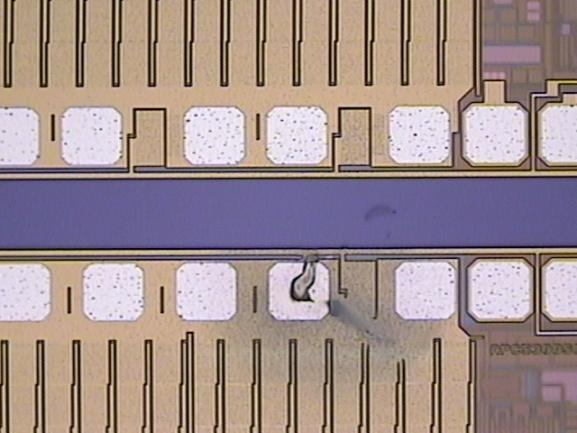BLOCK ETCH: (281, 198, 405, 352)
